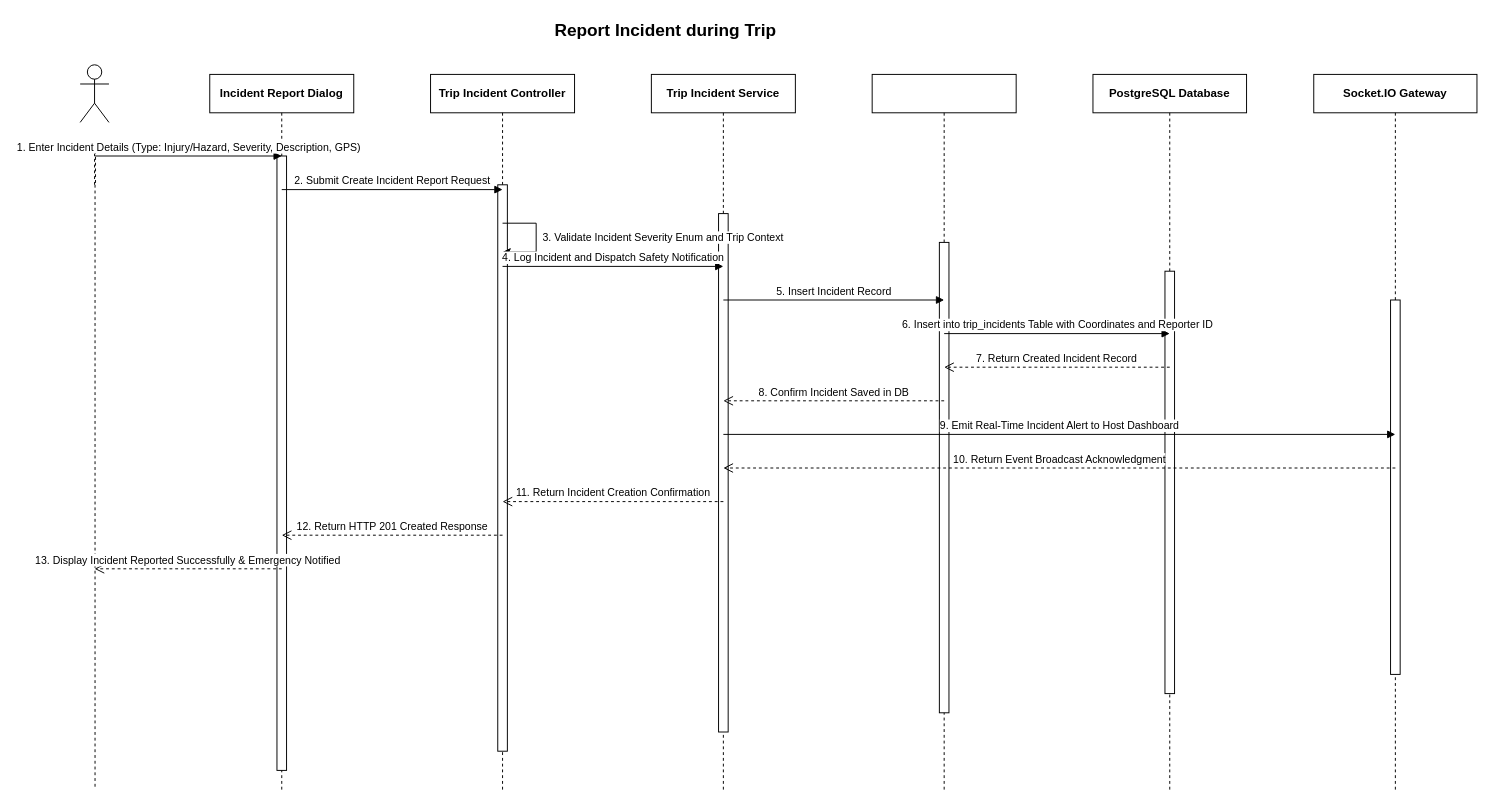
The diagram is 1494 pixels wide and 806 high, and some of its shapes have lost their labels. The shapes that lost their labels are listed below. From the top down, each one's centre as x and y in pixels, then its label:
the point at 94,93: Porter
the point at 943,431: Trip Incident Model
